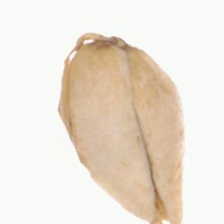L1: (76, 32, 140, 51), (129, 203, 186, 222)
L2: (58, 32, 185, 221)
